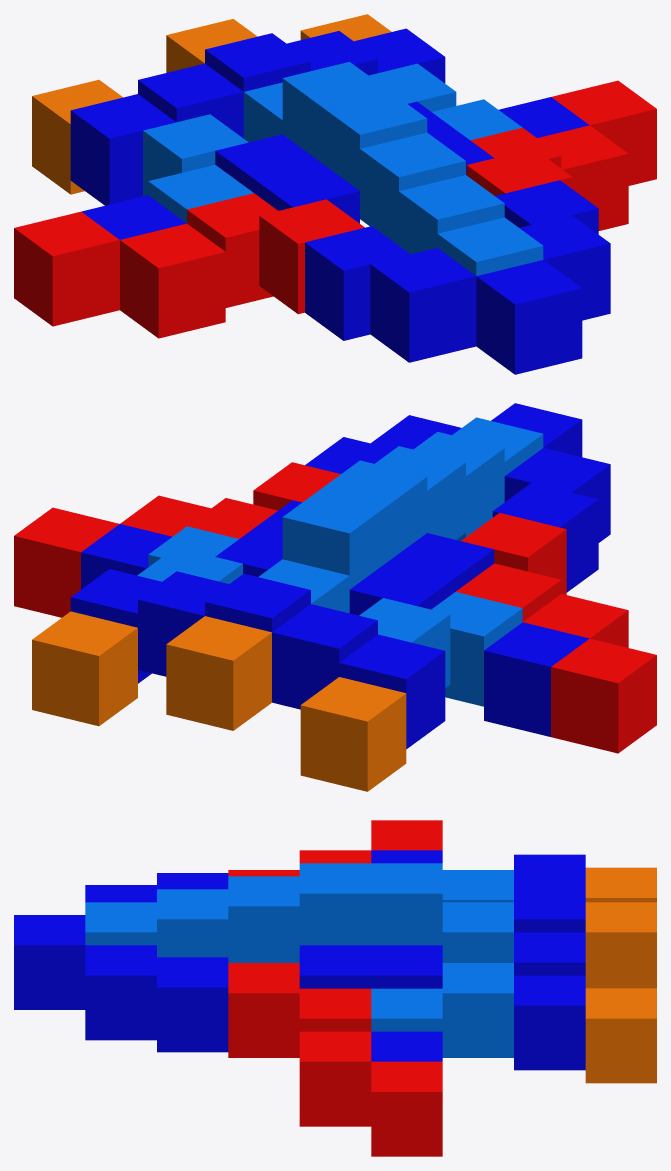
Rendered from PlayerShip.fbx.
The picture shows the model from 3 angles, top to bottom: view 1: azimuth 30°, elevation 25°; view 2: azimuth 150°, elevation 25°; view 3: azimuth 270°, elevation 25°; orthographic projection. The views are drawn at different scales.
Parts seen in each view (by area): view 1: Cube.036, Cube.013, Cube.034, Cube.007; view 2: Cube.036, Cube.034, Cube.013, Cube.007; view 3: Cube.036, Cube.034, Cube.013, Cube.007.
Part boxes in pixels (x1=…): Cube.036: x1=70, y1=28, x2=610, y2=374; Cube.013: x1=14, y1=80, x2=656, y2=338; Cube.034: x1=143, y1=62, x2=543, y2=275; Cube.007: x1=32, y1=14, x2=391, y2=194; Cube.036: x1=70, y1=403, x2=610, y2=749; Cube.034: x1=137, y1=417, x2=543, y2=706; Cube.013: x1=14, y1=462, x2=656, y2=753; Cube.007: x1=32, y1=611, x2=406, y2=791; Cube.036: x1=14, y1=850, x2=585, y2=1070; Cube.034: x1=85, y1=863, x2=513, y2=1057; Cube.013: x1=228, y1=820, x2=442, y2=1156; Cube.007: x1=585, y1=867, x2=656, y2=1083.
Bounding box in the file's own units: 9 × 9 × 2.2.
